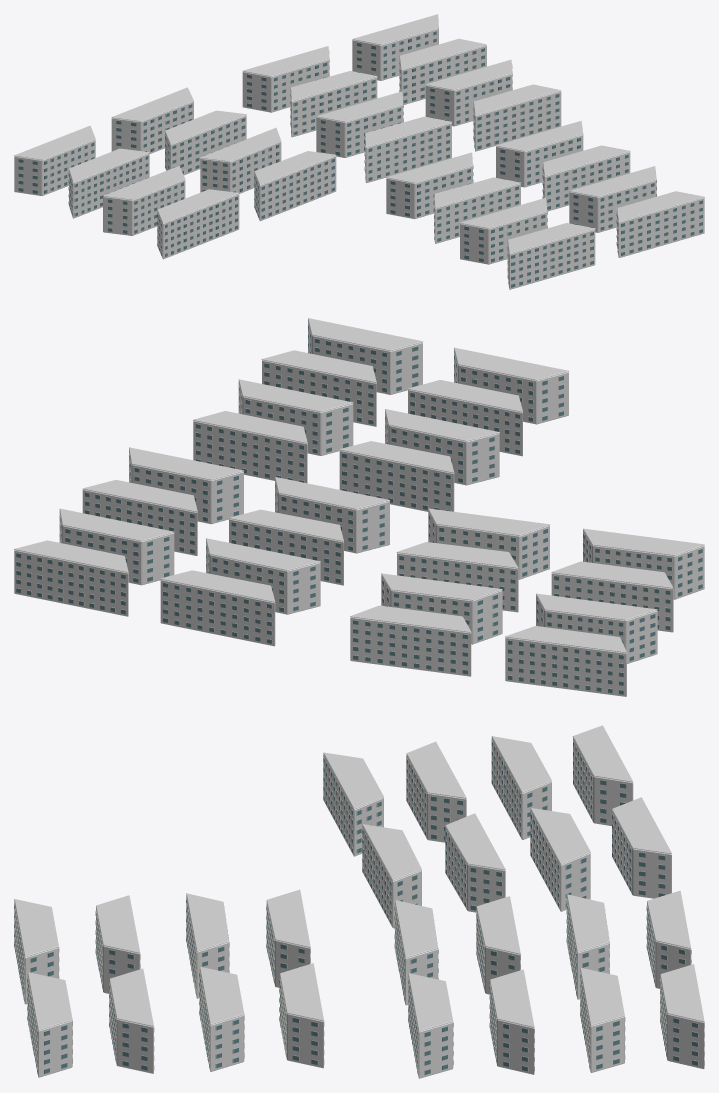
Rendered from dorm_sample.glb.
The picture shows the model from 3 angles, top to bottom: view 1: azimuth 30°, elevation 25°; view 2: azimuth 150°, elevation 25°; view 3: azimuth 270°, elevation 25°; orthographic projection. The views are drawn at different scales.
Parts seen in each view (by area): view 1: SEU_B_OSMWAY_630136458__0004, SEU_B_OSMWAY_630136457__0004, SEU_B_OSMWAY_630136474__0004, SEU_B_OSMWAY_630136473__0004, SEU_B_OSMWAY_630136491__0004, SEU_B_OSMWAY_630136490__0004, SEU_B_OSMWAY_630136488__0004, SEU_B_OSMWAY_630136478__0004, SEU_B_OSMWAY_630136462__0004, SEU_B_OSMWAY_630136471__0004, SEU_B_OSMWAY_630136455__0004, SEU_B_OSMWAY_630136443__0004 (+68 smaller); view 2: SEU_B_OSMWAY_630136478__0004, SEU_B_OSMWAY_630136476__0004, SEU_B_OSMWAY_630136462__0004, SEU_B_OSMWAY_630136460__0004, SEU_B_OSMWAY_630136443__0004, SEU_B_OSMWAY_630136438__0004, SEU_B_OSMWAY_630136473__0004, SEU_B_OSMWAY_630136457__0004, SEU_B_OSMWAY_630136474__0004, SEU_B_OSMWAY_630136465__0004, SEU_B_OSMWAY_630136447__0004, SEU_B_OSMWAY_630136464__0004 (+66 smaller); view 3: SEU_B_OSMWAY_630136480__0004, SEU_B_OSMWAY_630136476__0004, SEU_B_OSMWAY_630136487__0004, SEU_B_OSMWAY_630136478__0004, SEU_B_OSMWAY_630136481__0004, SEU_B_OSMWAY_630136490__0004, SEU_B_OSMWAY_630136488__0004, SEU_B_OSMWAY_630136491__0004, SEU_B_OSMWAY_630136474__0003, SEU_B_OSMWAY_630136458__0003, SEU_B_OSMWAY_630136470__0004, SEU_B_OSMWAY_630136464__0003 (+57 smaller).
Part boxes in pixels (x1,y1,x2,y2): SEU_B_OSMWAY_630136458__0004: [617, 197, 704, 257]; SEU_B_OSMWAY_630136457__0004: [507, 229, 595, 289]; SEU_B_OSMWAY_630136474__0004: [473, 91, 561, 151]; SEU_B_OSMWAY_630136473__0004: [365, 122, 451, 182]; SEU_B_OSMWAY_630136491__0004: [254, 156, 336, 221]; SEU_B_OSMWAY_630136490__0004: [157, 194, 239, 259]; SEU_B_OSMWAY_630136488__0004: [103, 179, 185, 235]; SEU_B_OSMWAY_630136478__0004: [14, 139, 95, 195]; SEU_B_OSMWAY_630136462__0004: [242, 59, 329, 112]; SEU_B_OSMWAY_630136471__0004: [316, 105, 403, 157]; SEU_B_OSMWAY_630136455__0004: [460, 212, 547, 264]; SEU_B_OSMWAY_630136443__0004: [386, 166, 472, 219]; SEU_B_OSMWAY_630136478__0004: [505, 637, 626, 696]; SEU_B_OSMWAY_630136476__0004: [350, 617, 471, 676]; SEU_B_OSMWAY_630136462__0004: [160, 579, 275, 646]; SEU_B_OSMWAY_630136460__0004: [14, 550, 128, 616]; SEU_B_OSMWAY_630136443__0004: [339, 450, 454, 511]; SEU_B_OSMWAY_630136438__0004: [193, 421, 307, 483]; SEU_B_OSMWAY_630136473__0004: [275, 478, 389, 553]; SEU_B_OSMWAY_630136457__0004: [454, 349, 568, 424]; SEU_B_OSMWAY_630136474__0004: [129, 450, 243, 524]; SEU_B_OSMWAY_630136465__0004: [206, 540, 320, 614]; SEU_B_OSMWAY_630136447__0004: [385, 411, 499, 485]; SEU_B_OSMWAY_630136464__0004: [59, 510, 174, 585]; SEU_B_OSMWAY_630136480__0004: [530, 809, 590, 911]; SEU_B_OSMWAY_630136476__0004: [612, 810, 671, 898]; SEU_B_OSMWAY_630136487__0004: [445, 827, 505, 912]; SEU_B_OSMWAY_630136478__0004: [573, 738, 633, 825]; SEU_B_OSMWAY_630136481__0004: [491, 738, 551, 839]; SEU_B_OSMWAY_630136490__0004: [323, 754, 383, 856]; SEU_B_OSMWAY_630136488__0004: [406, 755, 466, 842]; SEU_B_OSMWAY_630136491__0004: [362, 826, 421, 928]; SEU_B_OSMWAY_630136474__0003: [408, 973, 453, 1031]; SEU_B_OSMWAY_630136458__0003: [27, 972, 72, 1030]; SEU_B_OSMWAY_630136470__0004: [490, 982, 534, 1074]; SEU_B_OSMWAY_630136464__0003: [580, 967, 624, 1025].
Size of the model in its own units: 271 by 20 by 259.
